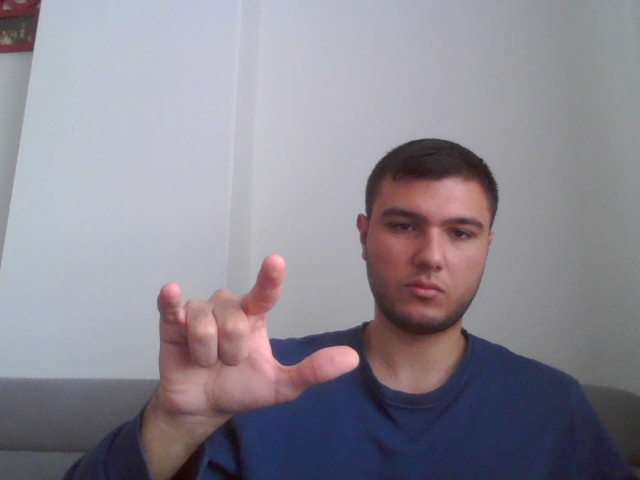ı love you: (132, 252, 367, 414)
